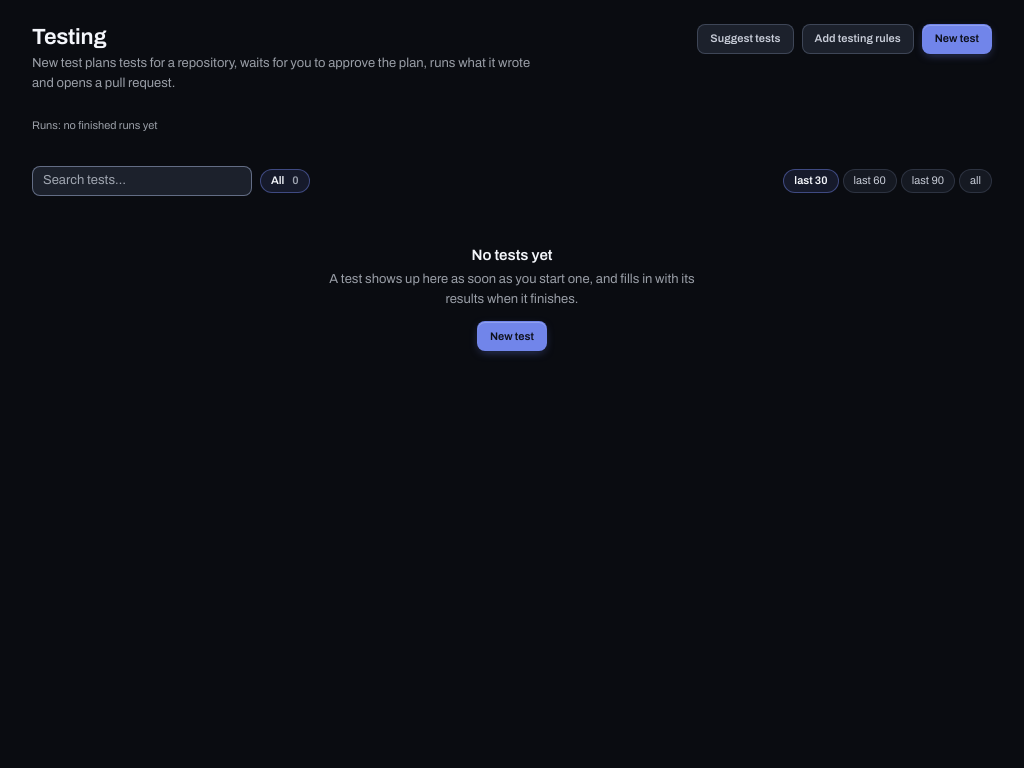
Test: a project's tests live on Testing (?project=); the shell address is retired (X1) › without `?project=` nothing is preselected
Expected: the element with test id "campaigns-page" is shown, [0,0,1023,447]
What coordinates should you click on to do the following:
click the button with test id "testing-campaign-open"
I would click on:
 (957, 39)
Its box is [922,24,992,54].
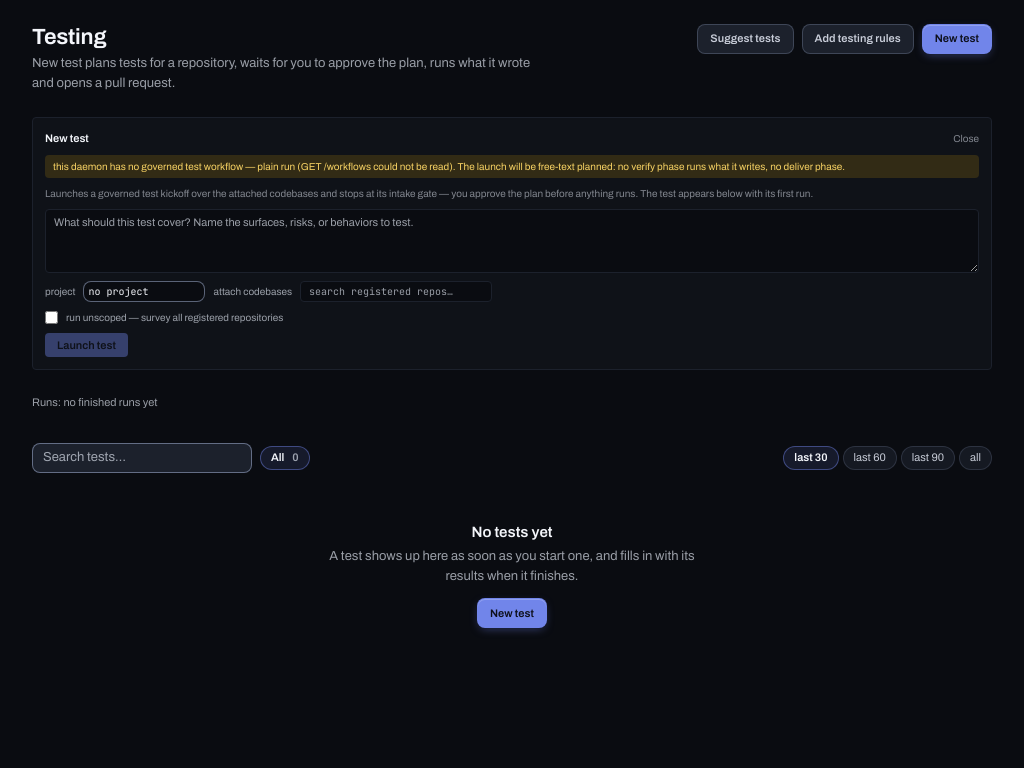
Expected: the dropdown with test id "testing-launch-project" shows "no project", [84,281,206,302]
